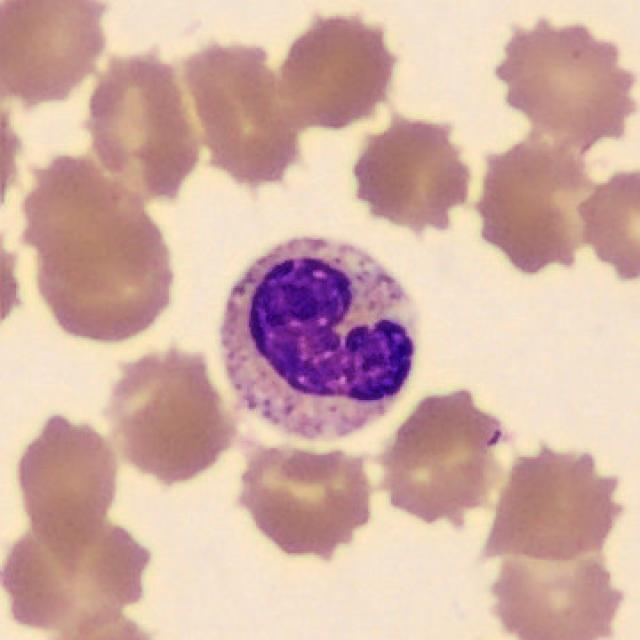Neutrofilo segmentado: (222, 238, 420, 448)
